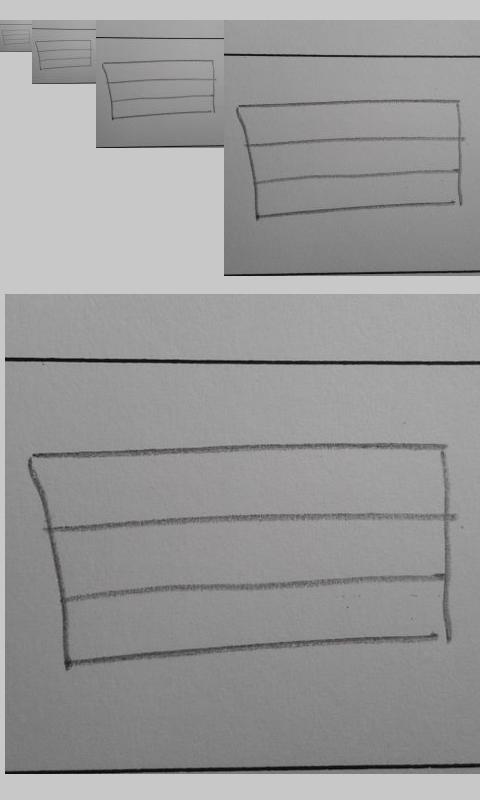list_view: (25, 441, 455, 667), (235, 98, 465, 220), (101, 58, 217, 120), (34, 39, 93, 71), (1, 28, 31, 46)
